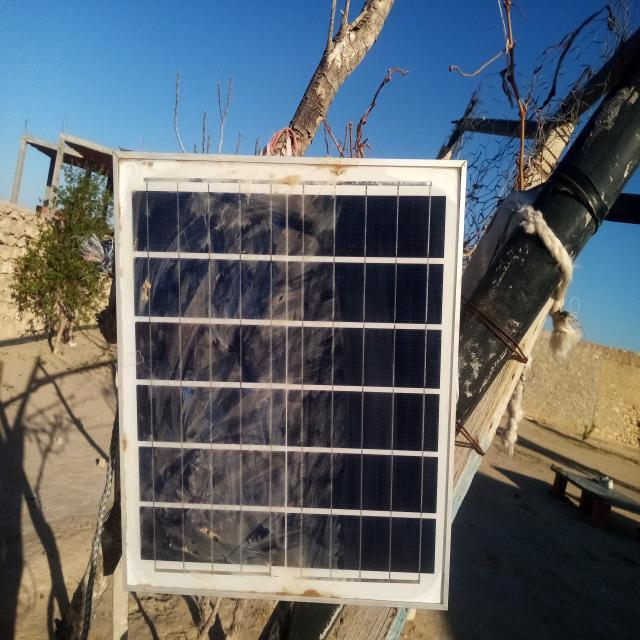faulty: (114, 156, 466, 611)
